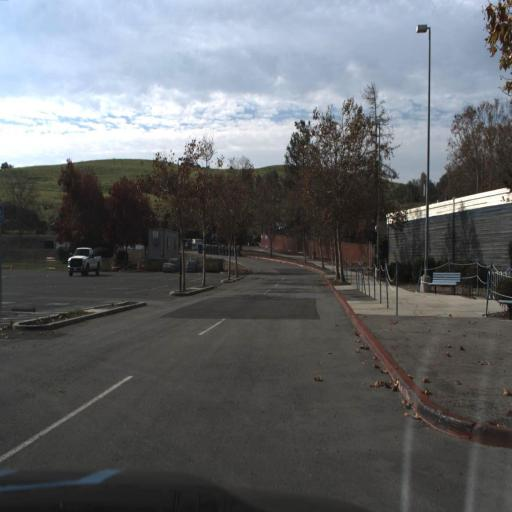car: (62, 243, 103, 280)
